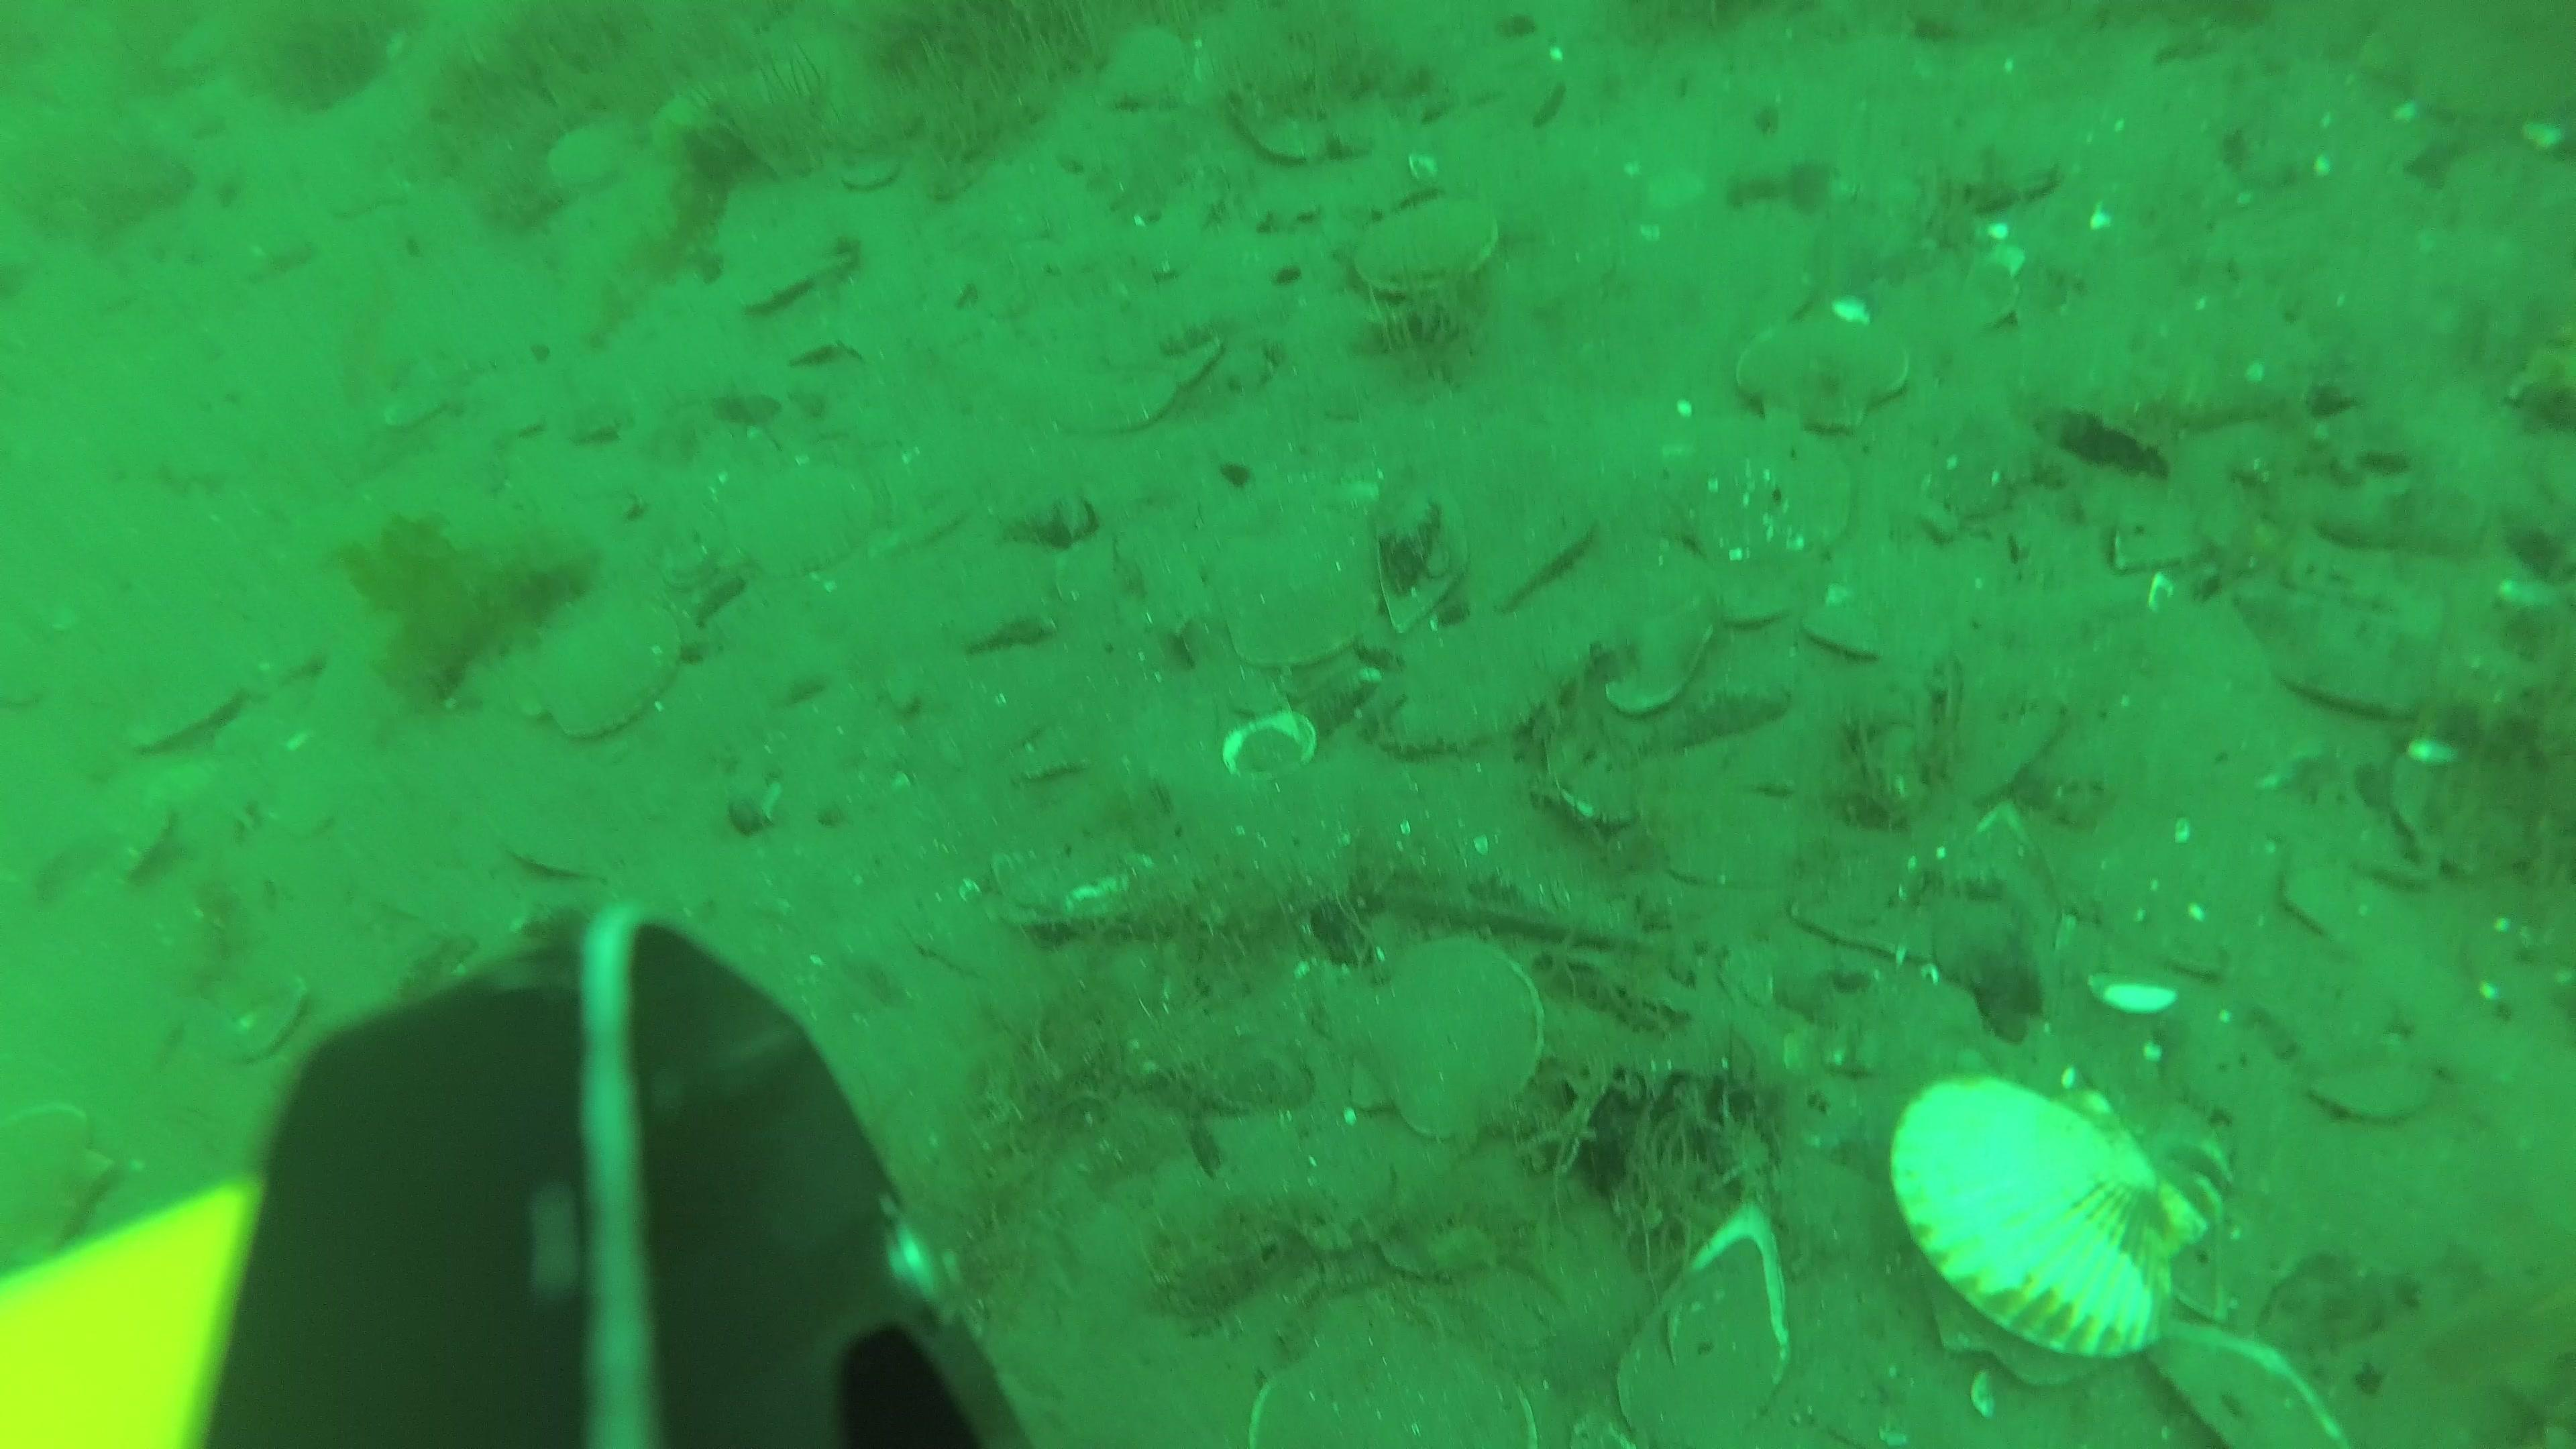scallop: (1898, 1065, 2204, 1350), (1327, 931, 1543, 1141), (1672, 412, 1854, 589), (1578, 541, 1729, 711), (1723, 313, 1923, 428), (2, 1108, 134, 1272), (1212, 552, 1376, 676), (741, 453, 879, 591), (533, 614, 683, 729), (1352, 198, 1506, 304), (1468, 501, 1601, 605), (2312, 1060, 2434, 1139), (122, 678, 242, 754), (541, 113, 644, 196), (1106, 30, 1189, 119), (1801, 596, 1886, 671)
